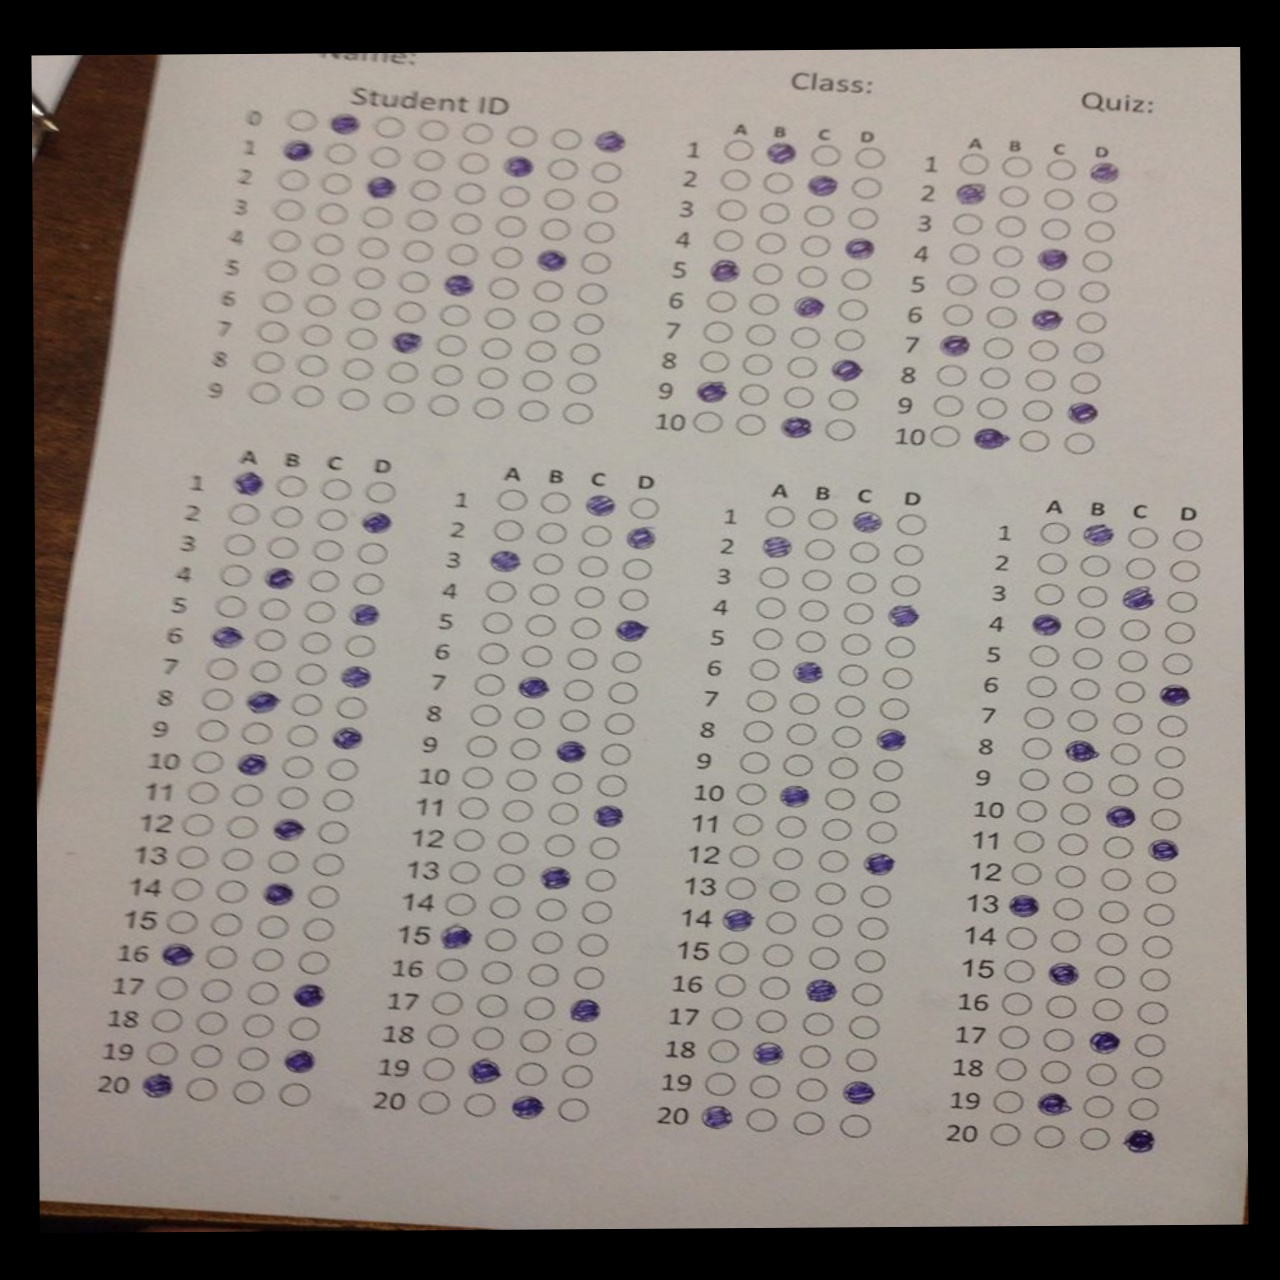not-c: (210, 876, 248, 908), (252, 908, 291, 941), (181, 1073, 220, 1104), (184, 1040, 223, 1071), (192, 1007, 231, 1039), (149, 1006, 188, 1037), (247, 944, 286, 975), (163, 906, 202, 938), (168, 873, 206, 905), (179, 809, 218, 840), (418, 1053, 458, 1083), (486, 891, 526, 921), (595, 738, 635, 769), (241, 978, 281, 1008), (216, 845, 256, 876), (223, 812, 263, 843), (182, 776, 222, 806), (1166, 554, 1206, 585), (217, 529, 258, 558), (209, 592, 250, 621), (1167, 524, 1208, 553), (423, 1020, 462, 1050), (458, 1090, 497, 1121), (472, 990, 511, 1021), (477, 956, 516, 987), (481, 925, 519, 955), (559, 674, 598, 704), (600, 708, 639, 738), (550, 765, 588, 796), (579, 896, 618, 926), (524, 959, 563, 989), (523, 994, 561, 1024), (516, 1027, 554, 1057), (561, 1028, 600, 1058), (553, 1095, 592, 1125), (233, 1042, 272, 1073), (236, 1009, 274, 1040), (142, 1039, 181, 1069), (151, 972, 190, 1002), (197, 974, 236, 1005), (227, 779, 266, 810), (1024, 639, 1063, 669), (747, 1070, 787, 1099), (706, 1035, 745, 1064), (712, 971, 751, 1000), (828, 720, 867, 749), (829, 692, 869, 721), (788, 688, 828, 717), (501, 764, 540, 794), (509, 703, 549, 733), (527, 928, 567, 958), (202, 942, 241, 972), (196, 685, 237, 713), (498, 796, 536, 826), (173, 840, 211, 871), (990, 1087, 1028, 1117), (990, 1054, 1028, 1084), (1001, 956, 1039, 987), (1032, 1121, 1069, 1151), (1076, 1123, 1114, 1153), (1012, 796, 1049, 826), (836, 1110, 874, 1139), (789, 1108, 828, 1137), (790, 1075, 829, 1104), (798, 1008, 837, 1037), (716, 939, 755, 968), (806, 908, 845, 938), (765, 876, 804, 905), (722, 873, 761, 903), (769, 843, 808, 872), (821, 784, 859, 813), (825, 754, 864, 783), (731, 779, 770, 809), (469, 1024, 508, 1054), (554, 704, 593, 734), (602, 679, 641, 708), (540, 832, 579, 862), (586, 832, 625, 862), (583, 863, 621, 892), (532, 893, 571, 922), (573, 928, 612, 958), (571, 962, 610, 992), (559, 1061, 598, 1090), (512, 1058, 551, 1088), (263, 846, 301, 876), (1163, 586, 1201, 615), (1133, 998, 1172, 1027), (842, 1046, 881, 1074), (795, 1042, 835, 1070), (753, 1007, 792, 1035), (813, 846, 853, 874), (815, 815, 855, 843), (781, 720, 821, 748), (188, 748, 227, 776), (223, 501, 263, 529), (215, 561, 254, 590), (202, 654, 241, 682), (995, 1021, 1032, 1051), (1009, 858, 1046, 888), (1023, 672, 1060, 702), (726, 842, 763, 871), (416, 1087, 454, 1116), (505, 734, 543, 763), (282, 720, 320, 749), (207, 908, 245, 938), (1042, 990, 1080, 1020), (1111, 678, 1149, 707), (1149, 770, 1186, 799), (1149, 804, 1186, 833), (1141, 866, 1178, 896), (1137, 964, 1175, 993), (1129, 1063, 1166, 1092), (1126, 1092, 1164, 1122), (1080, 1091, 1117, 1121), (1001, 922, 1039, 952), (985, 1119, 1022, 1149), (1017, 733, 1055, 762), (1021, 704, 1058, 734), (755, 975, 794, 1003), (760, 942, 798, 971), (806, 944, 845, 972), (811, 879, 850, 907), (744, 687, 783, 715), (738, 717, 777, 745), (736, 748, 775, 776), (730, 808, 769, 836), (778, 749, 817, 777), (489, 860, 527, 888), (491, 826, 530, 855), (594, 771, 633, 799), (545, 799, 584, 828), (245, 655, 284, 683), (1160, 619, 1199, 647), (1157, 649, 1196, 678), (998, 989, 1036, 1017), (234, 719, 274, 745), (250, 628, 290, 655), (1090, 961, 1126, 990), (1099, 832, 1136, 862), (1104, 770, 1141, 799), (1141, 901, 1177, 931), (1139, 932, 1176, 961), (1131, 1032, 1167, 1061), (1015, 764, 1051, 794), (1032, 580, 1068, 610), (702, 1070, 740, 1098), (763, 907, 801, 935), (278, 753, 315, 781), (1048, 926, 1085, 954), (1040, 1023, 1077, 1051), (1082, 1058, 1119, 1087), (1092, 928, 1130, 956), (1095, 898, 1132, 926), (1109, 738, 1146, 767), (1110, 710, 1148, 738), (1115, 646, 1152, 674), (1123, 553, 1160, 581), (1123, 522, 1160, 550), (1153, 743, 1191, 771), (312, 200, 350, 227), (781, 353, 819, 380), (743, 1107, 782, 1133), (708, 1005, 747, 1032), (770, 813, 809, 840), (332, 694, 370, 721), (305, 881, 343, 908), (190, 717, 229, 744), (253, 595, 292, 622), (264, 533, 302, 560), (1152, 712, 1191, 738), (275, 784, 312, 812), (315, 817, 352, 845), (1050, 893, 1087, 921), (1036, 1056, 1073, 1084), (1090, 993, 1126, 1021), (1118, 615, 1155, 644), (1009, 826, 1046, 855), (245, 377, 282, 404), (320, 139, 358, 166), (400, 237, 437, 264), (402, 207, 440, 234), (456, 120, 493, 147), (447, 210, 484, 237), (536, 215, 573, 241), (530, 275, 567, 302), (568, 311, 606, 338), (745, 290, 783, 316), (806, 139, 844, 166), (781, 384, 818, 411), (1083, 188, 1121, 215), (1023, 366, 1061, 393), (930, 392, 967, 418), (878, 663, 915, 690), (856, 881, 893, 908), (837, 631, 874, 658), (843, 568, 880, 595), (797, 595, 835, 622), (538, 488, 576, 515), (493, 486, 531, 513), (579, 520, 617, 547), (483, 576, 520, 602), (476, 610, 513, 636), (470, 670, 508, 697), (429, 990, 467, 1017), (318, 785, 355, 812), (350, 568, 388, 595), (353, 539, 390, 566), (309, 852, 347, 879), (277, 1081, 314, 1108), (1074, 583, 1111, 610), (1068, 644, 1105, 670), (1057, 799, 1095, 826), (1099, 865, 1137, 892), (515, 399, 553, 424), (584, 188, 622, 213), (796, 232, 835, 258), (992, 211, 1030, 237), (874, 694, 913, 720), (355, 234, 392, 261), (382, 358, 418, 384), (474, 365, 510, 392), (547, 125, 584, 152), (518, 365, 554, 392), (559, 399, 595, 425), (753, 229, 789, 256), (799, 202, 836, 229), (826, 384, 863, 411), (988, 241, 1024, 268), (1032, 275, 1068, 302), (942, 270, 979, 297), (981, 302, 1017, 329), (978, 365, 1014, 392), (880, 632, 917, 659), (866, 787, 903, 813), (846, 1012, 883, 1039), (627, 493, 663, 520), (322, 756, 359, 783), (342, 632, 379, 659), (301, 915, 338, 942), (297, 948, 333, 975), (287, 1014, 324, 1041), (229, 1077, 265, 1104), (1058, 767, 1095, 794), (1050, 862, 1087, 888), (282, 107, 320, 132), (268, 197, 306, 223), (258, 290, 295, 315), (250, 348, 287, 374), (293, 352, 331, 377), (297, 322, 334, 348), (299, 291, 336, 316), (305, 261, 342, 287), (316, 171, 354, 197), (365, 143, 402, 169), (358, 204, 395, 230), (350, 264, 388, 290), (343, 325, 381, 350), (339, 356, 376, 382), (334, 386, 372, 411), (381, 389, 418, 415), (388, 299, 425, 325), (394, 268, 431, 294), (406, 178, 443, 204), (411, 117, 449, 143), (455, 149, 492, 175), (435, 301, 472, 327), (433, 332, 470, 358), (427, 360, 464, 386), (470, 394, 508, 420), (476, 335, 513, 361), (481, 306, 518, 332), (483, 274, 520, 300), (486, 243, 524, 268), (493, 182, 531, 207), (501, 124, 538, 150), (544, 156, 581, 182), (542, 186, 579, 212), (524, 338, 561, 363), (571, 280, 608, 306), (579, 222, 617, 247), (688, 408, 726, 434), (731, 411, 769, 437), (735, 381, 772, 407), (742, 321, 779, 347), (751, 261, 789, 287), (754, 199, 791, 225), (760, 169, 797, 195), (720, 136, 757, 162), (713, 196, 750, 222), (704, 287, 742, 313), (699, 319, 736, 345), (851, 143, 888, 169), (847, 175, 885, 200), (837, 265, 874, 291), (823, 416, 860, 442), (1041, 186, 1078, 212), (998, 182, 1035, 207), (1082, 219, 1119, 245), (944, 240, 981, 266), (1076, 247, 1114, 273), (1076, 278, 1114, 304), (986, 273, 1023, 299), (940, 301, 978, 327), (1065, 369, 1103, 395), (1019, 396, 1056, 422), (933, 362, 971, 388), (980, 334, 1017, 360), (1023, 336, 1061, 362), (1060, 429, 1097, 455), (926, 421, 964, 447), (890, 540, 927, 566), (864, 818, 901, 844), (847, 980, 885, 1006), (748, 626, 785, 652), (755, 565, 792, 591), (795, 566, 832, 592), (802, 536, 839, 561), (803, 506, 840, 532), (843, 600, 880, 626), (835, 661, 872, 687), (747, 656, 784, 682), (619, 553, 656, 579), (527, 550, 565, 576), (571, 583, 608, 608), (612, 585, 649, 611), (522, 612, 559, 638), (565, 614, 602, 640), (564, 645, 601, 670), (475, 639, 512, 665), (469, 702, 506, 728), (459, 763, 497, 789), (454, 796, 491, 822), (445, 858, 483, 884), (442, 891, 479, 917), (434, 956, 471, 982), (361, 481, 399, 506), (272, 471, 309, 497), (311, 506, 348, 532), (305, 567, 342, 593), (297, 628, 334, 654), (1035, 520, 1073, 546), (1033, 550, 1070, 576), (1070, 612, 1108, 638), (1065, 678, 1103, 703), (1054, 832, 1091, 858), (274, 166, 311, 192), (266, 227, 302, 253), (260, 258, 297, 284), (254, 319, 291, 345), (290, 382, 326, 408), (309, 231, 346, 257), (372, 114, 408, 139), (349, 297, 386, 322), (410, 147, 447, 172), (452, 179, 489, 205), (444, 241, 481, 267), (425, 392, 462, 417), (491, 215, 527, 240), (526, 307, 563, 333), (561, 369, 598, 395), (567, 339, 604, 365), (580, 250, 617, 275), (586, 159, 622, 185), (738, 350, 775, 376), (717, 165, 754, 191), (712, 227, 748, 253), (695, 347, 731, 373), (785, 324, 822, 349), (791, 261, 828, 287), (845, 205, 881, 231), (835, 297, 871, 322), (832, 326, 869, 352), (954, 149, 990, 175), (998, 152, 1034, 178), (1043, 155, 1080, 181), (1036, 216, 1073, 241), (949, 211, 986, 237), (1073, 307, 1109, 333), (1070, 339, 1107, 365), (975, 394, 1012, 420), (1016, 427, 1053, 452), (894, 510, 931, 536), (888, 573, 925, 599), (869, 757, 905, 783), (855, 915, 891, 941), (852, 948, 888, 974), (792, 629, 829, 655), (750, 595, 787, 621), (763, 503, 799, 529), (845, 539, 881, 565), (491, 516, 527, 542), (533, 520, 570, 546), (573, 552, 610, 578), (525, 583, 561, 608), (608, 648, 645, 674), (519, 641, 556, 667), (464, 731, 501, 757), (451, 828, 488, 853), (316, 476, 353, 502), (268, 502, 305, 527), (308, 536, 345, 561), (302, 599, 339, 625), (294, 661, 331, 687), (287, 692, 324, 717), (1078, 552, 1115, 578), (1064, 707, 1101, 733)
taken-c: (345, 599, 383, 628), (801, 975, 840, 1003), (229, 468, 266, 497), (512, 672, 551, 700), (536, 863, 574, 891), (565, 995, 604, 1023), (1101, 802, 1141, 829), (1060, 737, 1099, 764), (159, 939, 196, 968), (233, 747, 270, 776), (336, 661, 373, 690), (260, 563, 297, 592), (508, 1092, 545, 1121), (258, 880, 295, 908), (241, 687, 279, 715), (696, 1103, 735, 1130), (1119, 1128, 1158, 1155), (1034, 1090, 1073, 1117), (1084, 1027, 1123, 1054), (1043, 961, 1082, 988), (1143, 836, 1182, 863), (1027, 611, 1065, 638), (1117, 586, 1156, 613), (1078, 520, 1117, 547), (551, 737, 590, 764), (588, 802, 627, 829), (437, 922, 476, 949), (464, 1057, 503, 1084), (280, 1046, 316, 1074), (139, 1070, 176, 1098), (290, 981, 326, 1009), (268, 815, 305, 843), (328, 724, 365, 753), (206, 622, 243, 651), (358, 508, 394, 536), (361, 173, 399, 200), (693, 377, 730, 404), (1062, 399, 1099, 425), (789, 658, 826, 685), (717, 905, 755, 932), (750, 1040, 788, 1067), (839, 1077, 877, 1104), (1005, 891, 1042, 918), (1155, 680, 1192, 707), (620, 522, 658, 549), (326, 110, 365, 136), (704, 257, 743, 282), (840, 234, 879, 260), (872, 726, 908, 753), (591, 129, 628, 155), (277, 136, 314, 162), (531, 248, 568, 274), (388, 329, 425, 355), (829, 356, 866, 382), (789, 294, 826, 320), (762, 139, 799, 165), (952, 179, 989, 205), (1085, 159, 1123, 185), (1033, 245, 1070, 271), (1027, 307, 1064, 333), (971, 424, 1008, 450), (849, 509, 886, 535), (884, 602, 921, 628), (775, 782, 812, 808), (611, 617, 648, 642), (499, 152, 536, 178), (440, 271, 476, 297), (777, 414, 813, 440), (804, 171, 840, 197), (937, 332, 973, 358), (758, 533, 795, 559), (860, 850, 897, 876), (581, 491, 618, 517), (484, 547, 520, 573)
